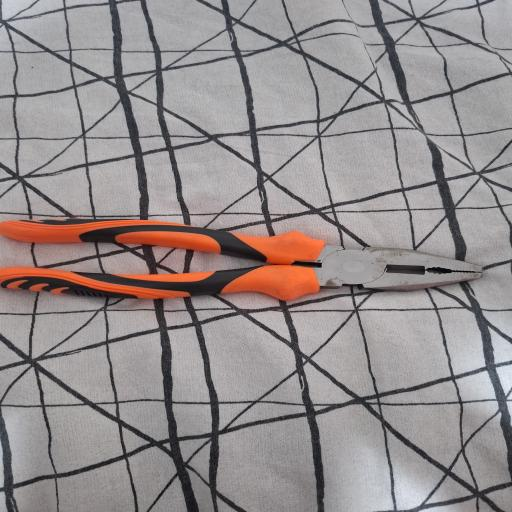alicate: (0, 216, 488, 315)
